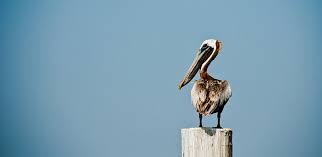pelican: (176, 39, 232, 130)
